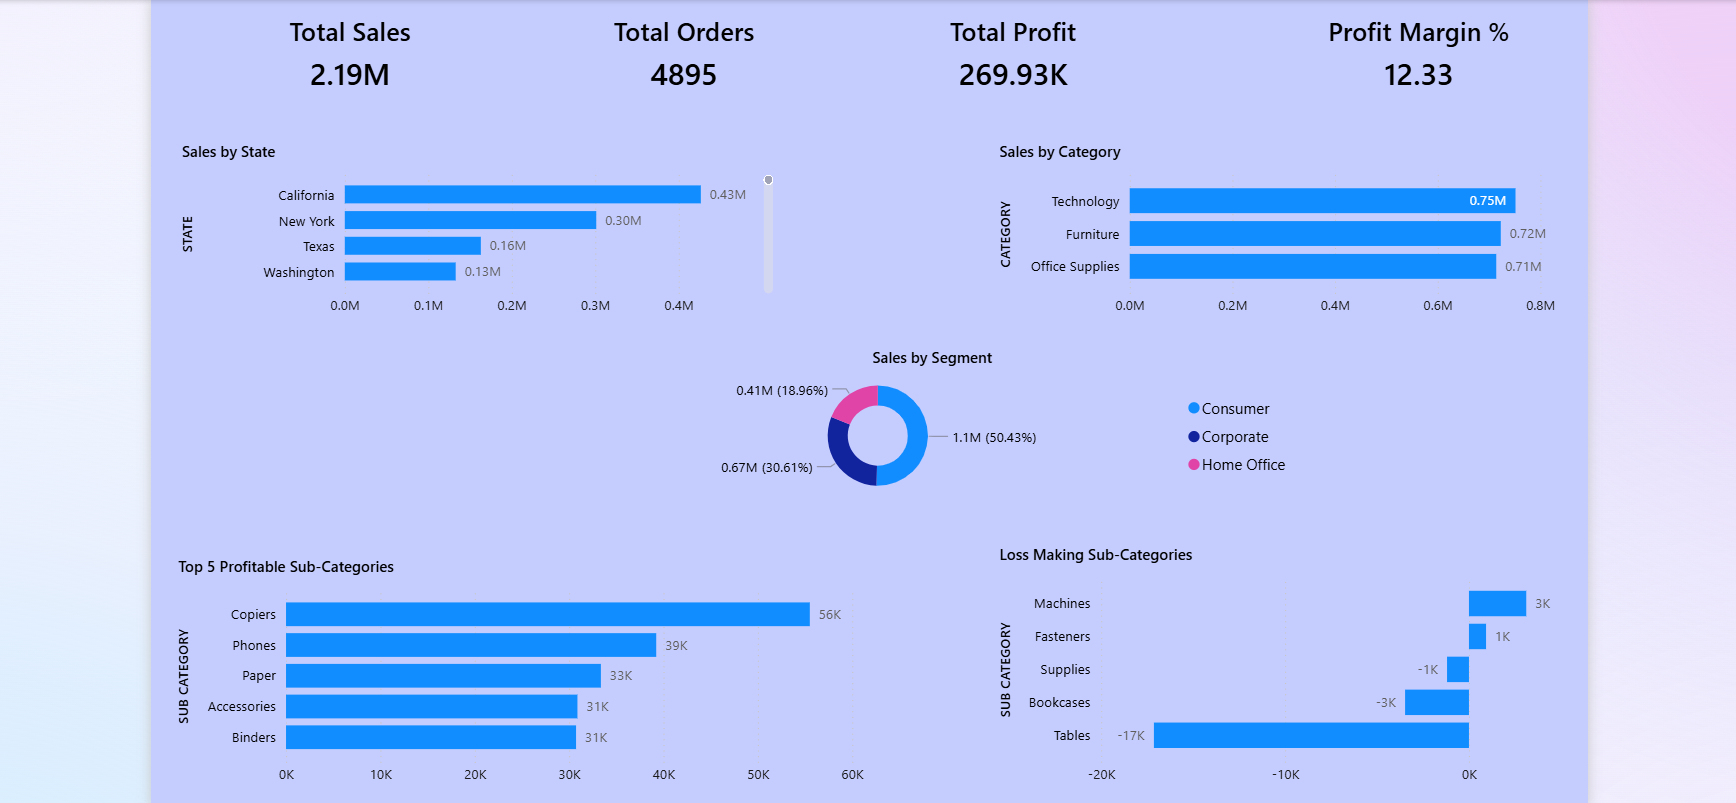

This screenshot's page, from the dashboard's own definition file:
{"tool":"powerbi","page":{"name":" Executive Summary","canvas":[1280,720],"ordinal":0},"visuals":[{"type":"card","title":"Total Sales","fields":{"Values":["Sum(SUPERSTORE.SALES)"]},"box":[63.1,0,227.8,97.4],"z":0},{"type":"card","title":"Total Profit","fields":{"Values":["Sum(SUPERSTORE.PROFIT)"]},"box":[651.5,0,233.1,96.9],"z":1000},{"type":"card","title":"Total Orders","fields":{"Values":["Count(SUPERSTORE.ORDER_ID)"]},"box":[374,0,201.5,96.8],"z":2000},{"type":"card","title":"Profit Margin %","fields":{"Values":["SUPERSTORE.Profit Margin%"]},"box":[991.4,0,274.8,96.9],"z":3000},{"type":"clusteredBarChart","title":"Sales by Category","fields":{"Category":["SUPERSTORE.CATEGORY"],"Y":["Sum(SUPERSTORE.SALES)"]},"box":[743.7,113.9,536.5,183.9],"z":4000},{"type":"donutChart","title":"Sales by Segment","fields":{"Category":["SUPERSTORE.SEGMENT"],"Y":["Sum(SUPERSTORE.SALES)"]},"box":[359.5,297.8,672.4,159.2],"z":5000},{"type":"clusteredBarChart","title":"Sales by State","fields":{"Category":["SUPERSTORE.STATE"],"Y":["Sum(SUPERSTORE.SALES)"]},"box":[15.1,113.9,550.3,183.9],"z":6000},{"type":"clusteredBarChart","title":"Top 5 Profitable Sub-Categories","fields":{"Category":["SUPERSTORE.SUB_CATEGORY"],"Y":["Sum(SUPERSTORE.PROFIT)"]},"box":[12.3,483,639.5,231.9],"z":7000},{"type":"clusteredBarChart","title":"Loss Making Sub-Categories","fields":{"Category":["SUPERSTORE.SUB_CATEGORY"],"Y":["Sum(SUPERSTORE.PROFIT)"]},"box":[743.7,472,536.5,242.9],"z":8000}]}

Visuals, with their boxes on the page's 1280x720 design canvas (x1, y1, x2, y2). These are canvas units, not pixel positions in the 1736x803 screenshot, which may show the page scaled, cropped or inside an application window:
"Total Sales" card: bbox(63, 0, 291, 97)
"Total Profit" card: bbox(652, 0, 885, 97)
"Total Orders" card: bbox(374, 0, 576, 97)
"Profit Margin %" card: bbox(991, 0, 1266, 97)
"Sales by Category" clusteredBarChart: bbox(744, 114, 1280, 298)
"Sales by Segment" donutChart: bbox(360, 298, 1032, 457)
"Sales by State" clusteredBarChart: bbox(15, 114, 565, 298)
"Top 5 Profitable Sub-Categories" clusteredBarChart: bbox(12, 483, 652, 715)
"Loss Making Sub-Categories" clusteredBarChart: bbox(744, 472, 1280, 715)
